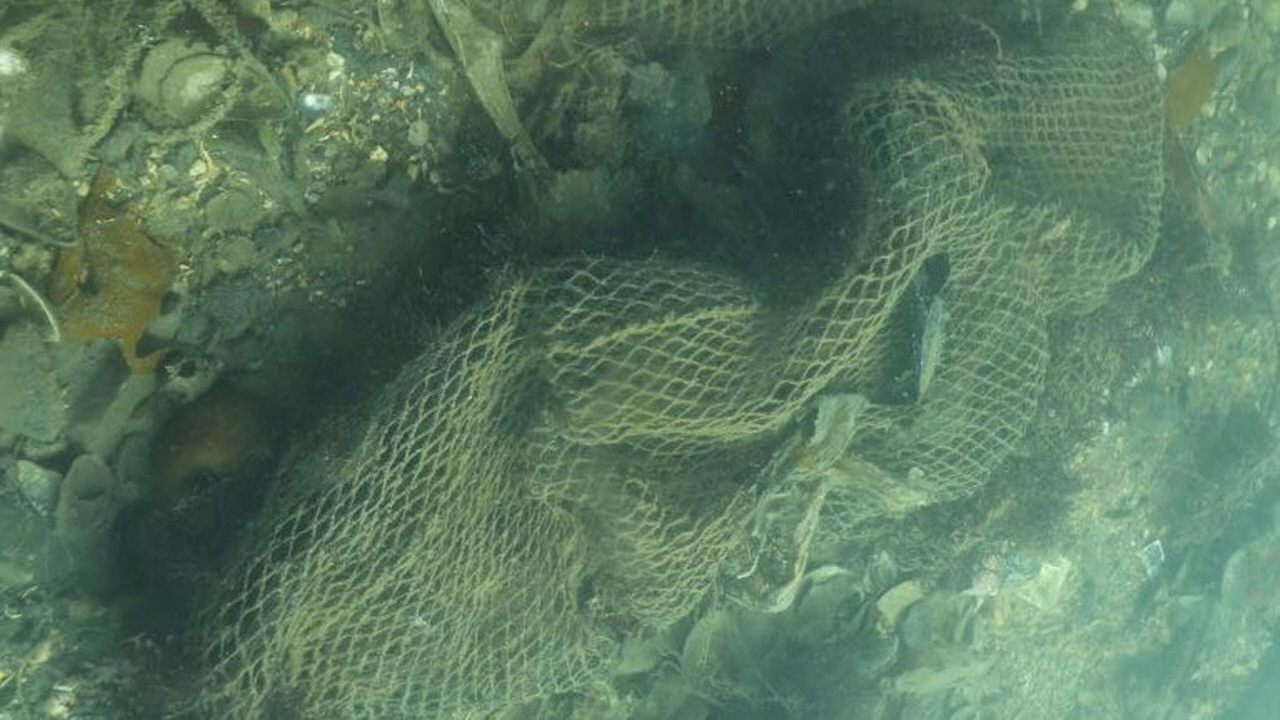fish net: (186, 0, 1166, 720)
